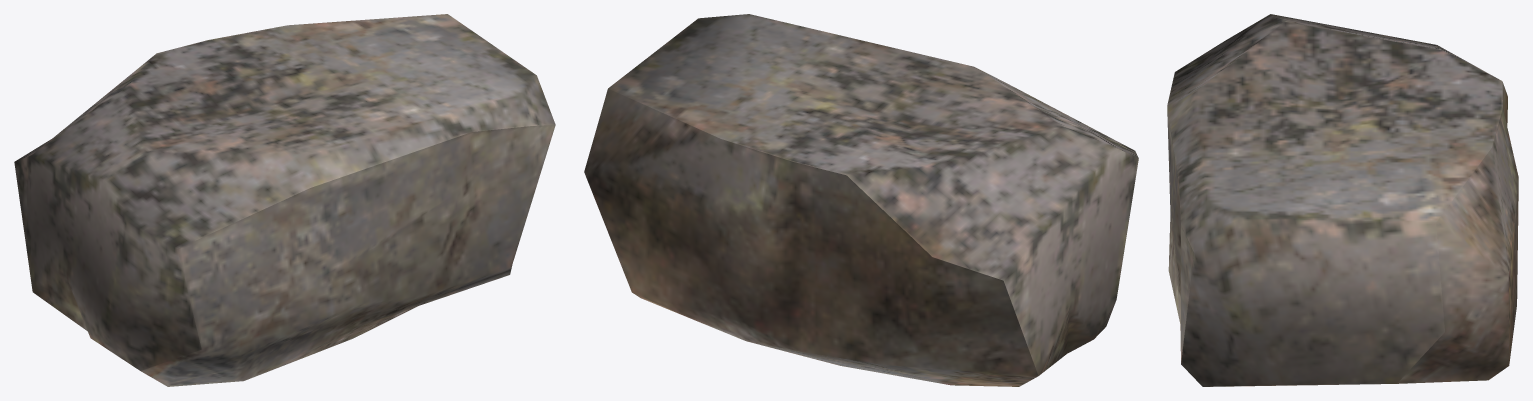
File: SM_Stone02.FBX
3 renders of one model, left to right at view 1: azimuth 30°, elevation 25°; view 2: azimuth 150°, elevation 25°; view 3: azimuth 270°, elevation 25°, orthographic. The views are drawn at different scales.
Parts seen in each view (by area): view 1: SM_Stone02; view 2: SM_Stone02; view 3: SM_Stone02.
Part boxes in pixels (x1,y1,x2,y2): SM_Stone02: (14,14,555,386); SM_Stone02: (584,14,1138,386); SM_Stone02: (1167,14,1518,386).
Size of the model in its own units: 157 by 105 by 83.37.
